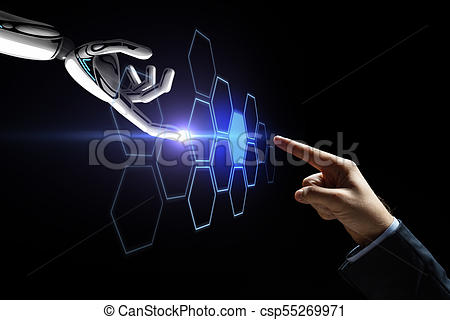finger: (273, 133, 340, 166)
